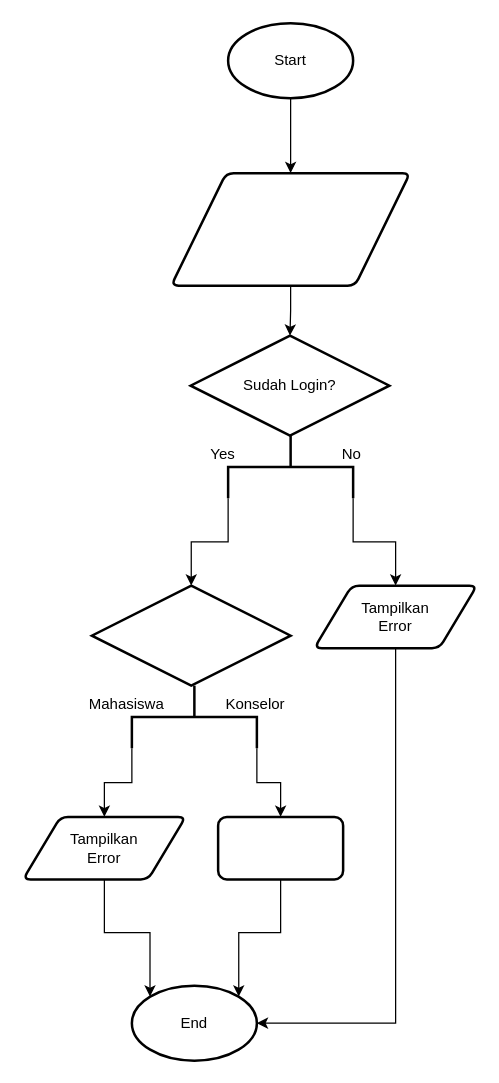
This 499x1083 diagram has some shape labels left out. Here are the shapes that lost their labels. From the top down, the centre of each, then its label:
At point (290, 228): "User Mieminta Akses Campus Dashboard".
At point (190, 635): "Cek Role".
At point (280, 847): "Tampilkan Campus Dashboard".
